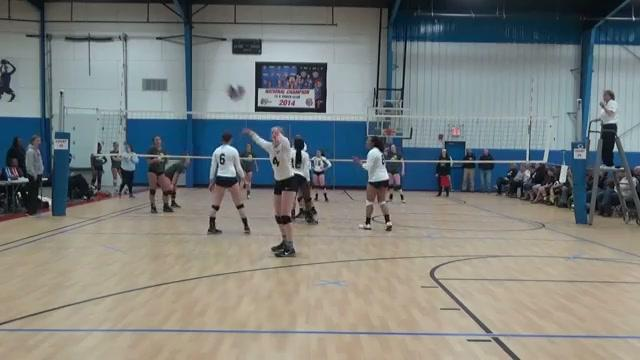ball: (225, 82, 247, 103)
